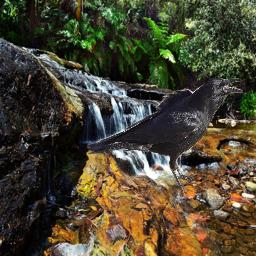Crow: (87, 77, 243, 199)
